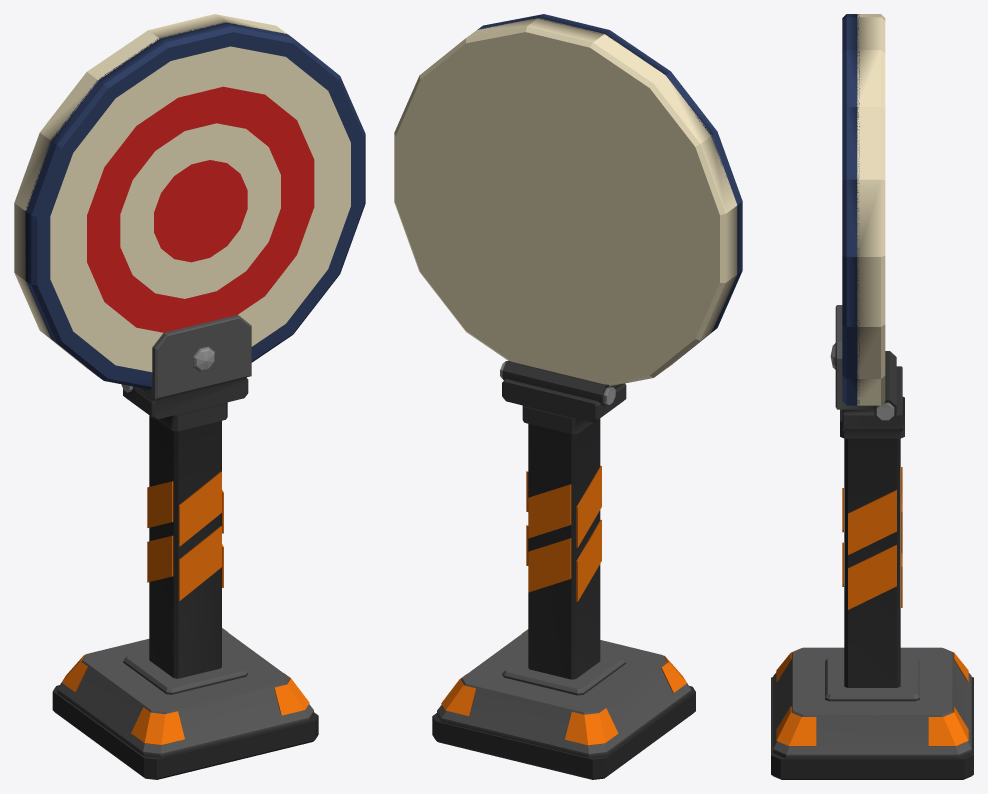
File: target.glb
3 views of the same model, side by side, from view 1: azimuth 30°, elevation 25°; view 2: azimuth 150°, elevation 25°; view 3: azimuth 270°, elevation 25° (orthographic).
Parts seen in each view (by area): view 1: board, target; view 2: board, target; view 3: target, board.
Part boxes in pixels (box(x1,y1,x2,y2)): board: box(14, 14, 365, 399); target: box(52, 377, 318, 779); board: box(394, 14, 742, 406); target: box(432, 379, 695, 779); target: box(771, 366, 973, 779); board: box(830, 14, 896, 420).
Size of the model in its own units: 0.9 by 1.8 by 0.47.
Materials: 1 (1 with a texture image).
